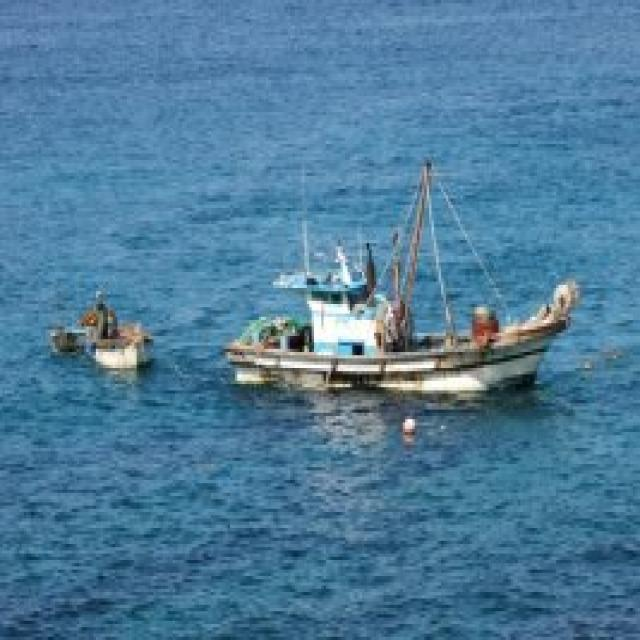Ship: (217, 145, 584, 408)
